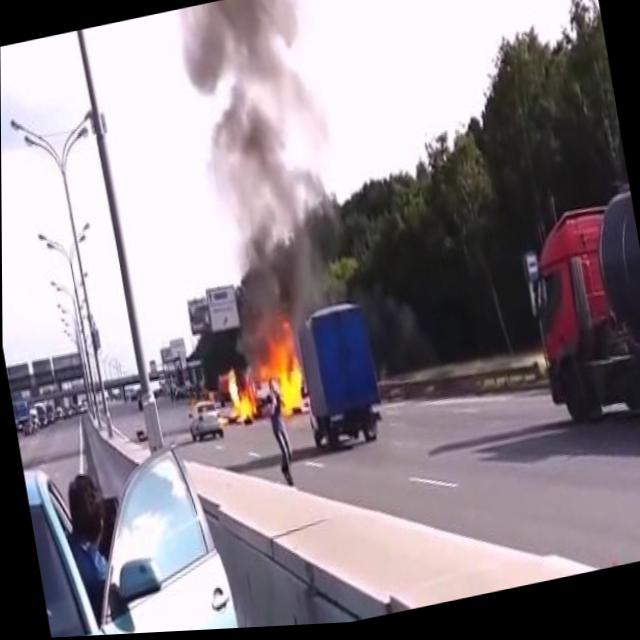fire: (216, 323, 310, 428)
